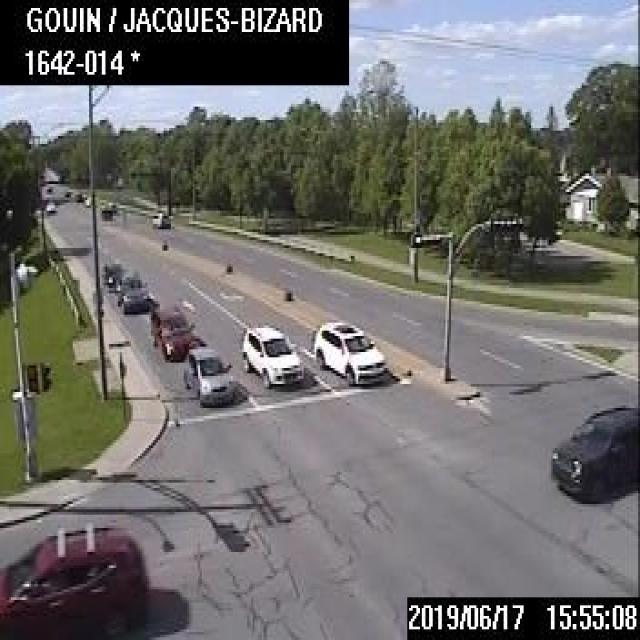vehicle: (0, 522, 145, 637), (548, 404, 638, 498), (312, 320, 386, 385), (240, 323, 302, 386), (182, 346, 232, 404), (148, 305, 195, 360), (115, 273, 147, 312), (100, 261, 122, 289), (150, 210, 169, 226), (99, 205, 111, 218), (44, 200, 55, 212), (105, 200, 115, 210)
